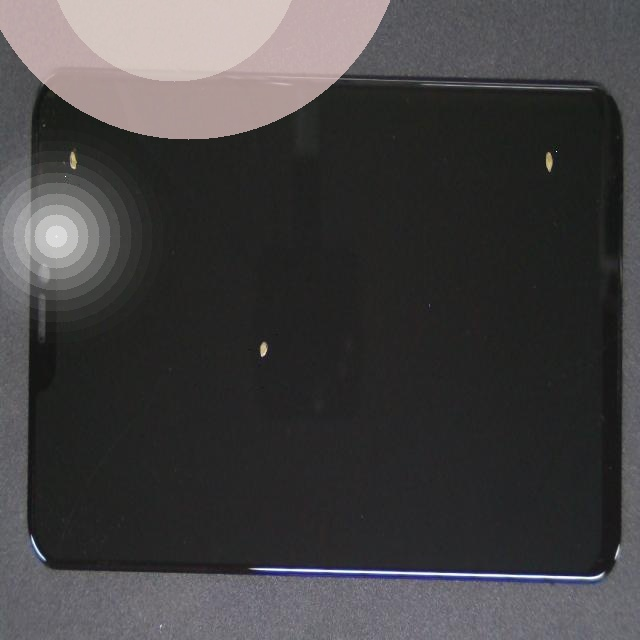stain: (98, 168, 379, 559), (267, 32, 640, 225), (6, 59, 97, 282)
